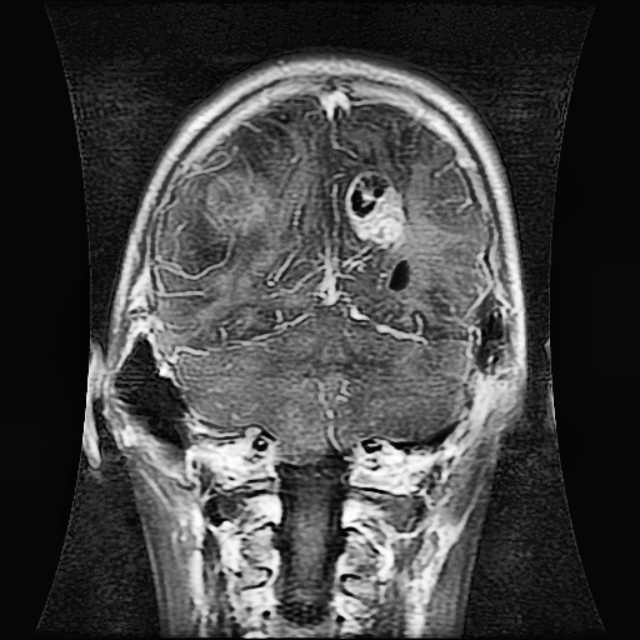Meningioma: (347, 169, 405, 252)
